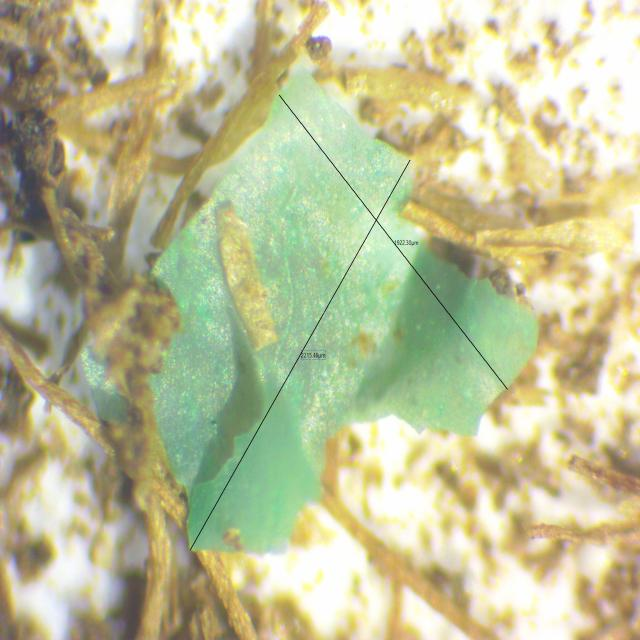microplastic: (150, 70, 543, 561)
